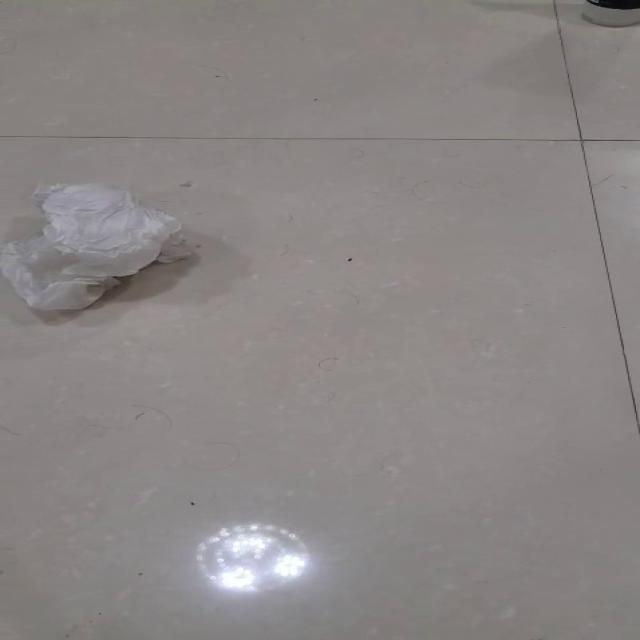plastic: (0, 180, 190, 311)
